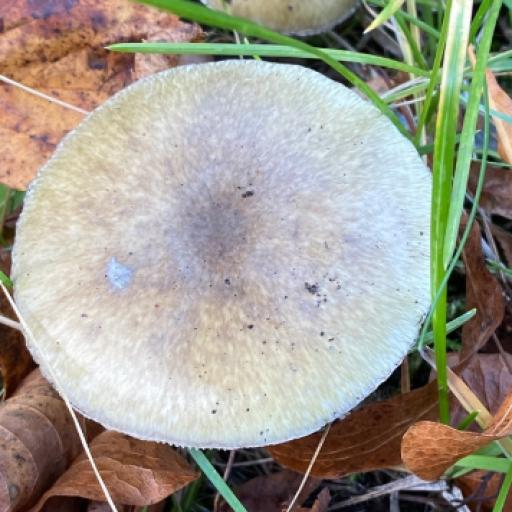Death Cap: (0, 27, 469, 475)
